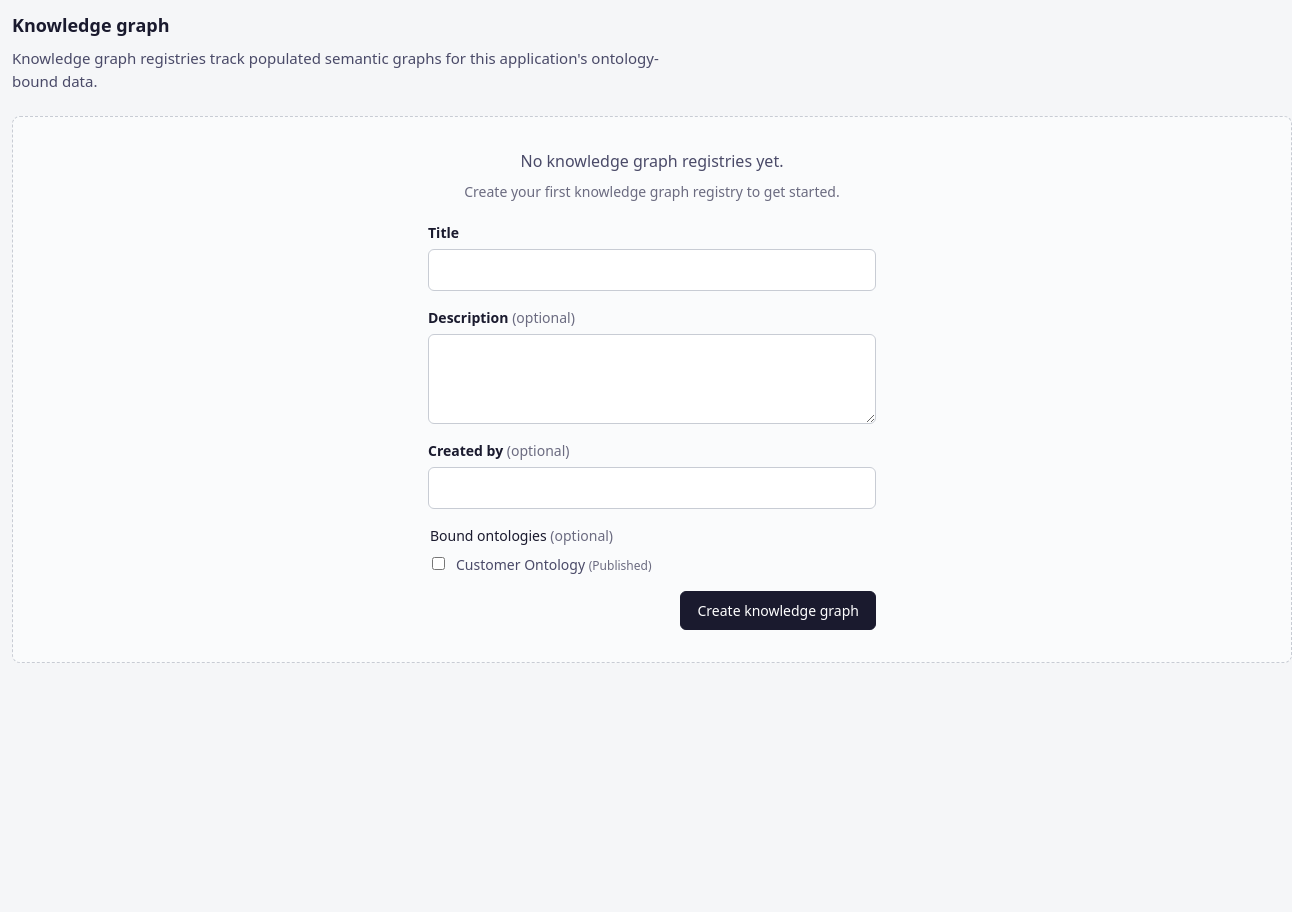
Scenario: KnowledgeGraphsPage › shows title validation error when title is empty
Expected: the form named "Create knowledge graph" is shown, [428,222,876,630]
Click the button "Create knowledge graph".
click(778, 610)  # box [680,591,876,630]
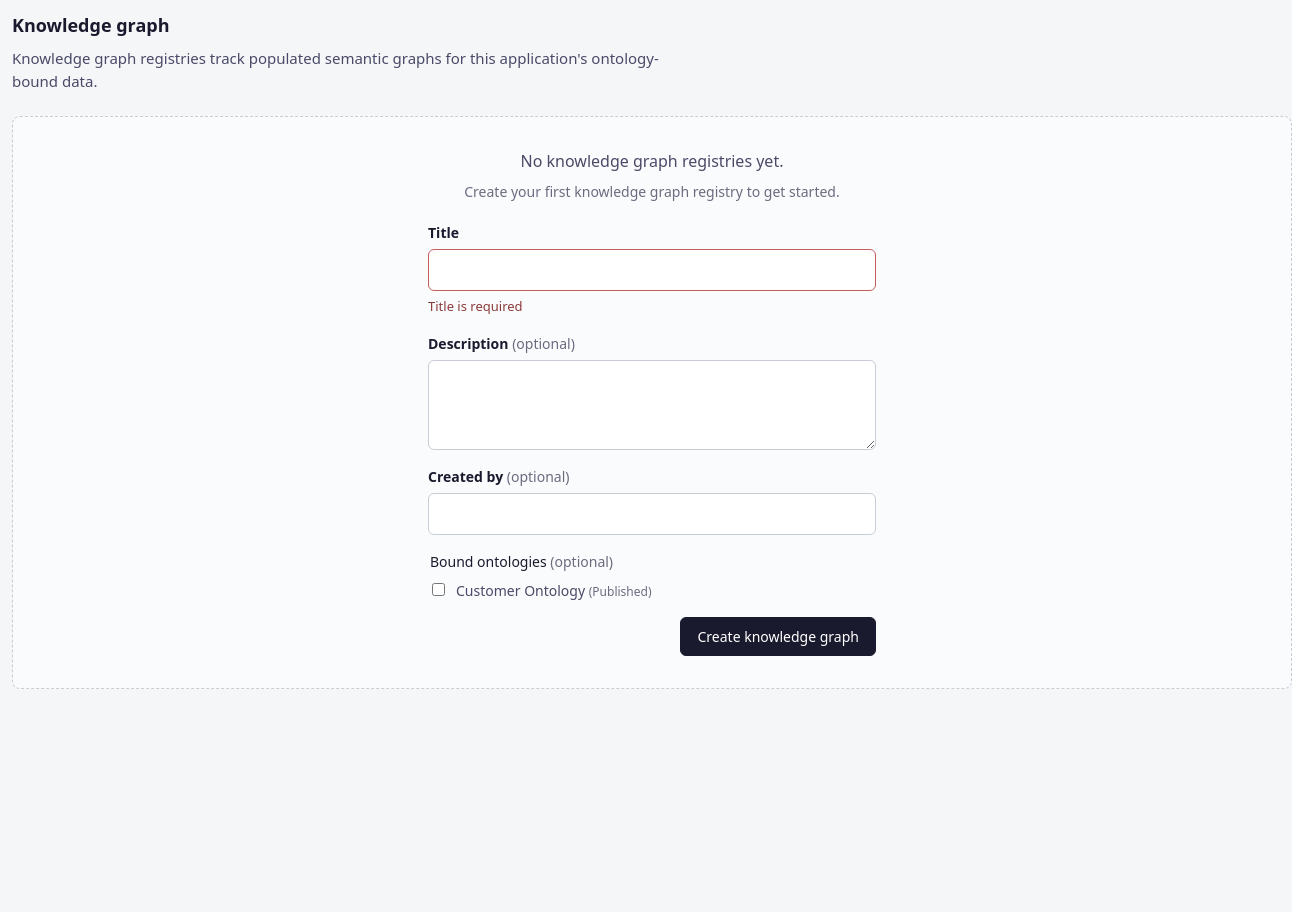
Expected: the message reads "Title is required", [428,297,523,315]
